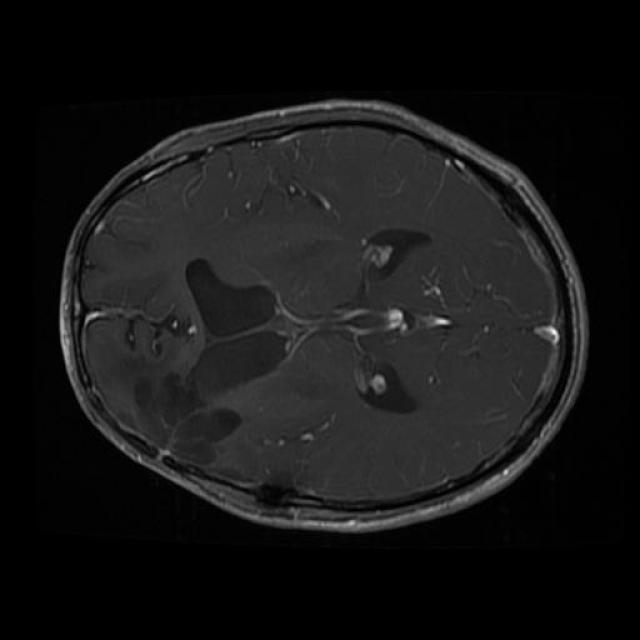Glioma: (134, 372, 241, 464)
